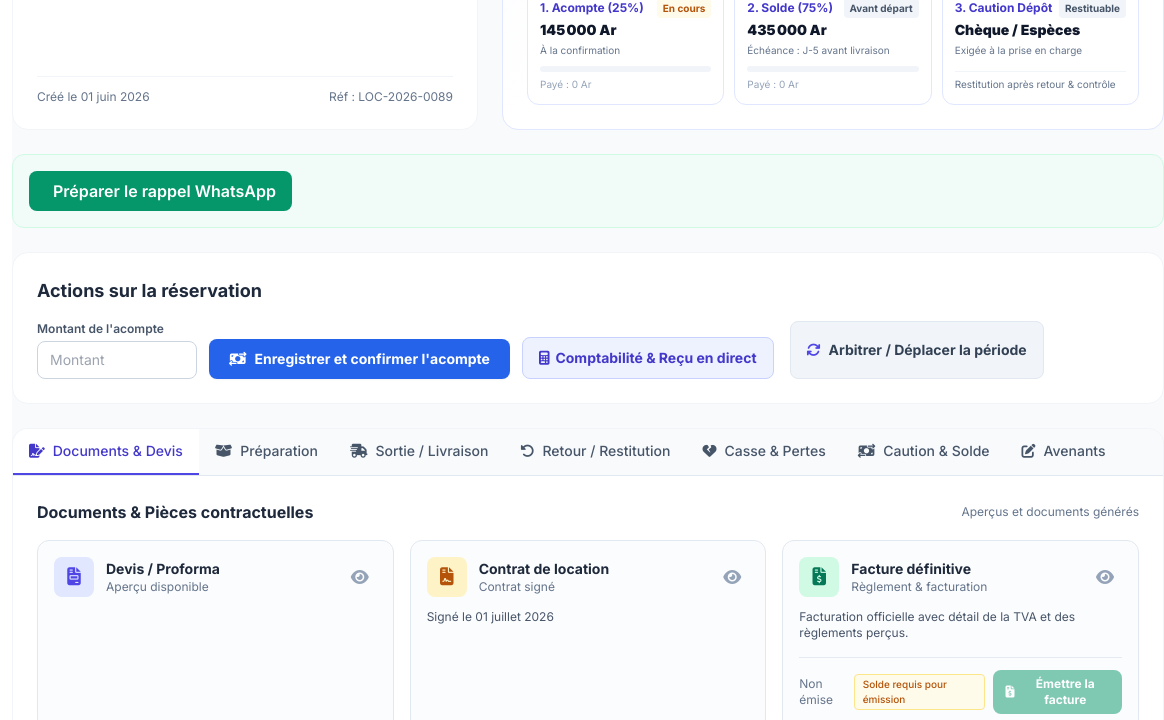
ReservationDetailPage › reprend l'enregistrement d'acompte Titan avec la même clé après une erreur réseau
(page scrolled)
In the number field labelled "Montant de l'acompte": (117, 360) [37, 341, 197, 379], type "250000"
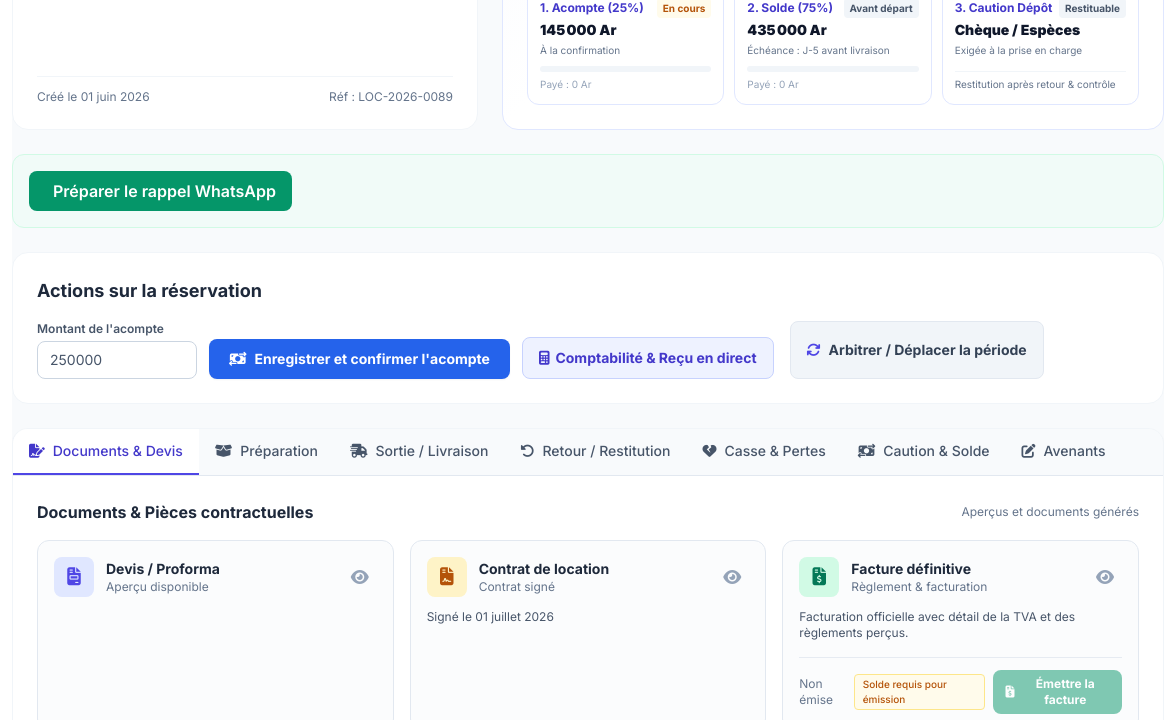
Click the button "Enregistrer et confirmer l'acompte": (359, 359) [209, 339, 510, 379]
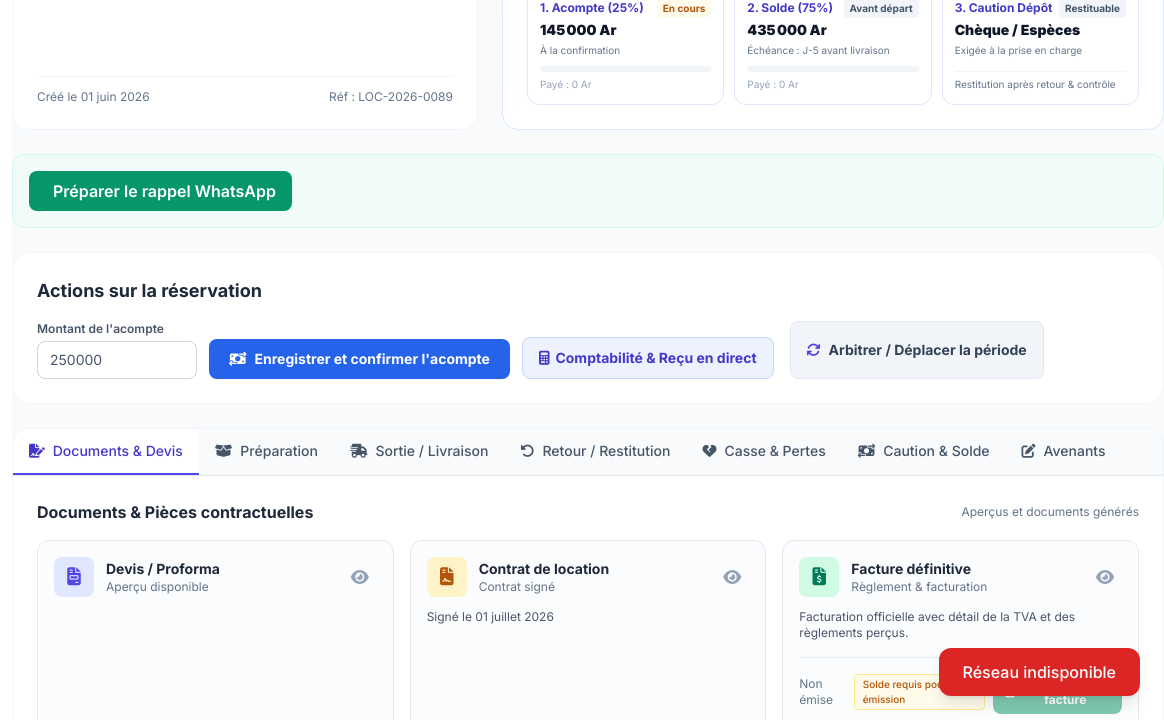
Expected: the text "Réseau indisponible" is shown, [939, 648, 1140, 696]
Click the button "Enregistrer et confirmer l'acompte": (359, 359) [209, 339, 510, 379]
(page scrolled)
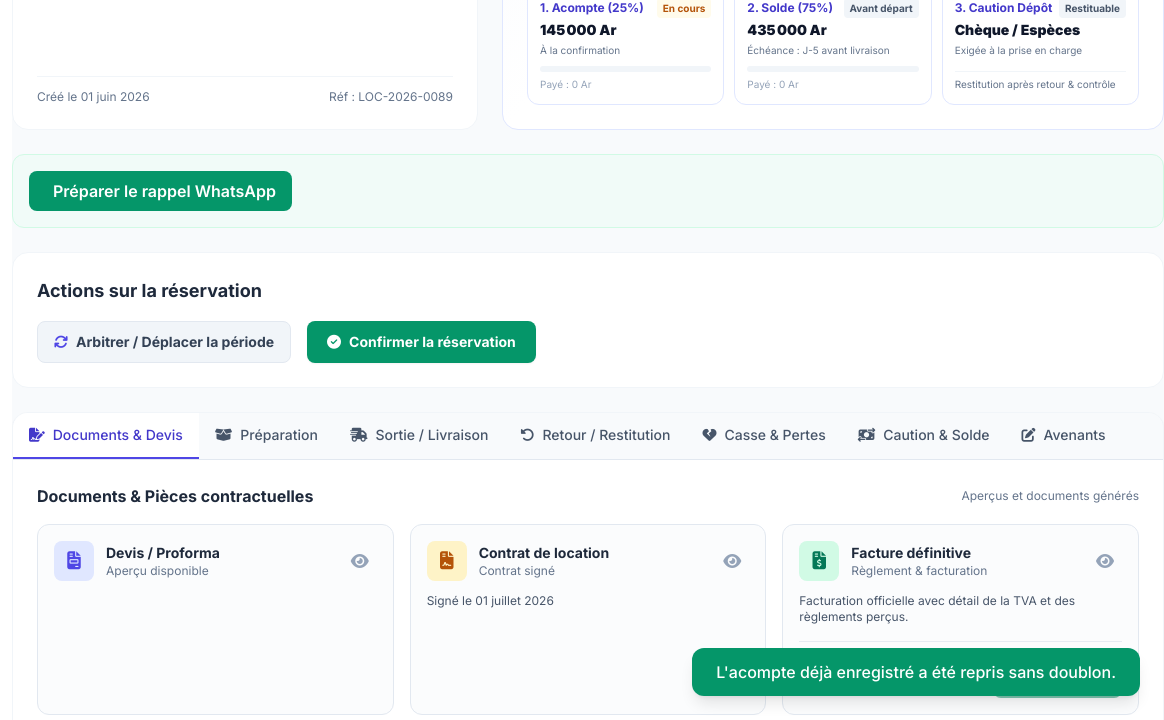
Expected: the text "L'acompte déjà enregistré a été repris sans doublon." is shown, [692, 648, 1140, 696]
